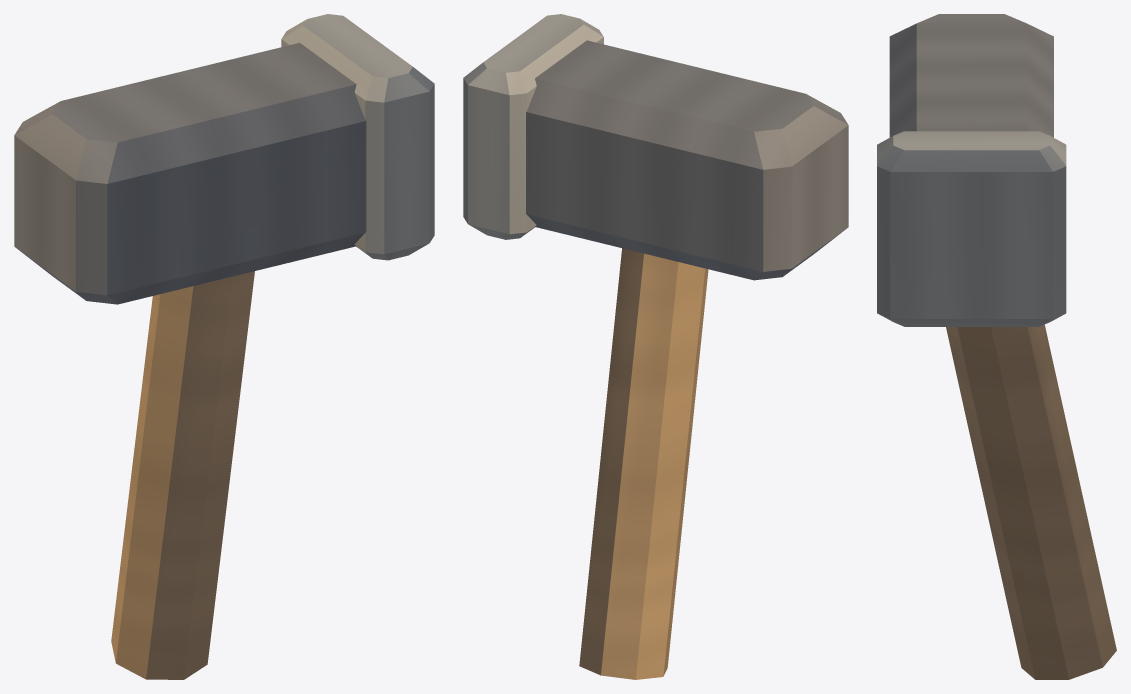
The model's file is resident_hammer.glb.
The picture shows the model from 3 angles, left to right: view 1: azimuth 30°, elevation 25°; view 2: azimuth 150°, elevation 25°; view 3: azimuth 270°, elevation 25°; orthographic projection. The views are drawn at different scales.
Parts seen in each view (by area): view 1: Runa · Schmiedehammer; view 2: Runa · Schmiedehammer; view 3: Runa · Schmiedehammer.
Boxes of the visible parts, x1,y1,x2,y2 form: Runa · Schmiedehammer: (14,14,434,679); Runa · Schmiedehammer: (463,14,848,679); Runa · Schmiedehammer: (877,14,1116,679).
Size of the model in its own units: 0.2155 by 0.3653 by 0.133.
Materials: 2 (2 with a texture image).
